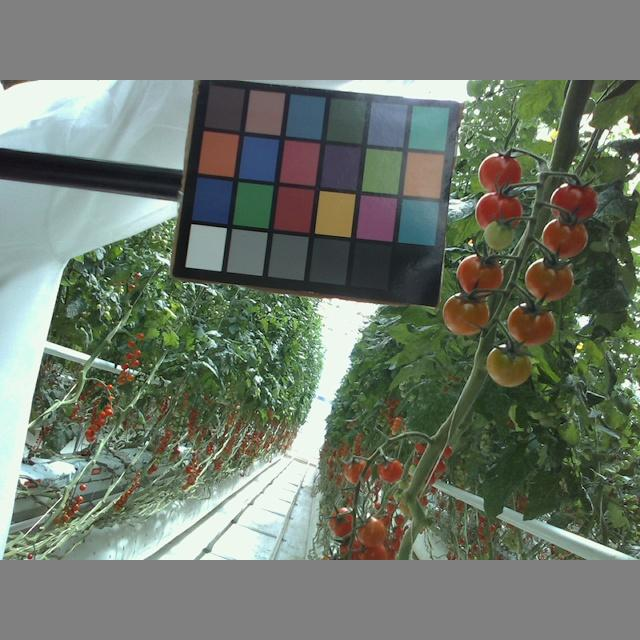green: (484, 219, 515, 250)
pink: (505, 302, 556, 347), (523, 257, 574, 302), (441, 290, 490, 335), (458, 254, 504, 298), (485, 345, 532, 386), (542, 219, 588, 258), (356, 517, 386, 549), (328, 508, 359, 537), (342, 458, 372, 485), (335, 536, 365, 559), (362, 541, 389, 560)
red: (476, 150, 524, 196), (476, 190, 522, 232), (551, 184, 599, 223), (379, 458, 402, 483)
